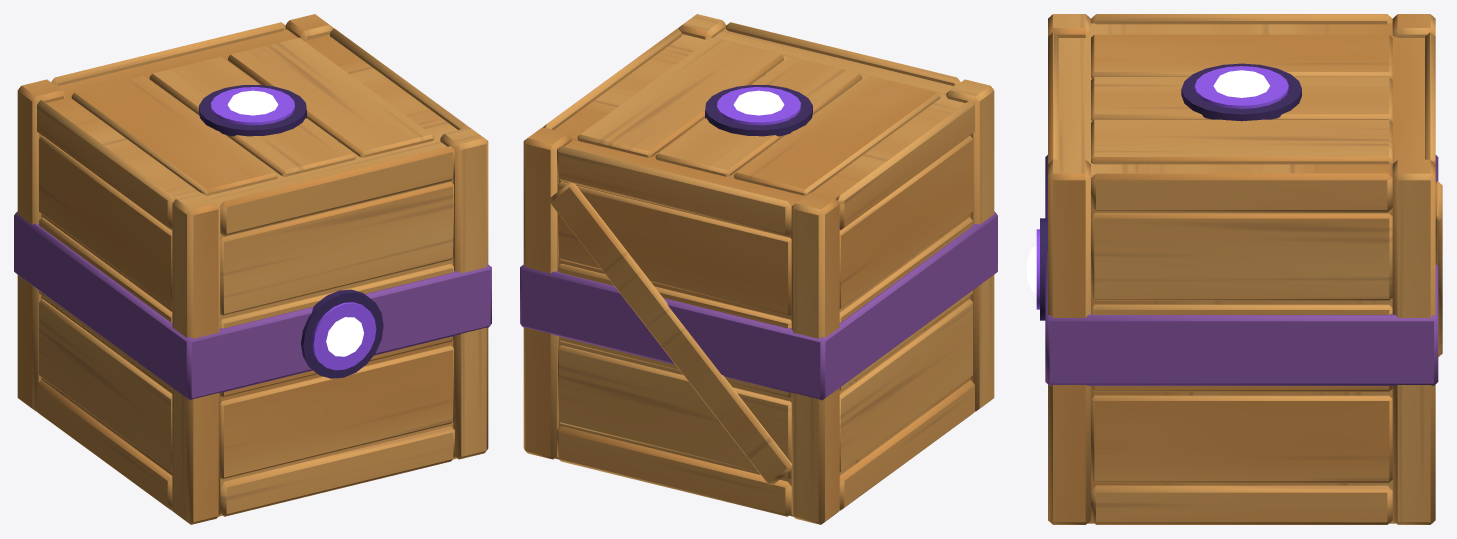
The model's file is haki_cache.glb.
The picture shows the model from 3 angles, left to right: view 1: azimuth 30°, elevation 25°; view 2: azimuth 150°, elevation 25°; view 3: azimuth 270°, elevation 25°; orthographic projection. The views are drawn at different scales.
Visible parts, largest first — view 1: haki_cache; view 2: haki_cache; view 3: haki_cache.
Part boxes in pixels (x1=…): haki_cache: x1=14, y1=14, x2=491, y2=524; haki_cache: x1=520, y1=14, x2=997, y2=524; haki_cache: x1=1026, y1=14, x2=1442, y2=524.
Size of the model in its own units: 0.912 by 0.9482 by 0.9659.
Materials: 5 (1 with a texture image).
